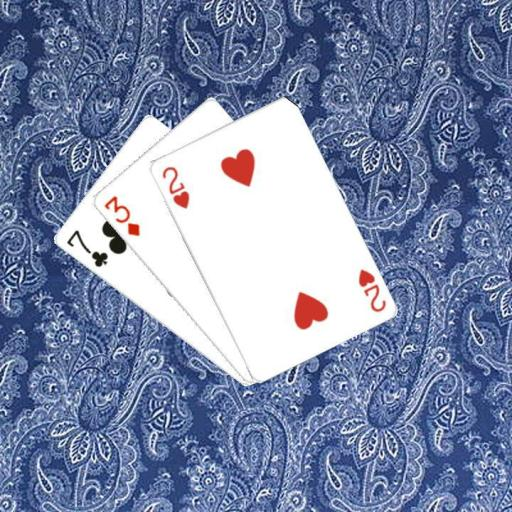2H: (354, 265, 388, 314), (159, 163, 191, 210)
3D: (101, 192, 142, 238)
7C: (63, 227, 110, 269)
